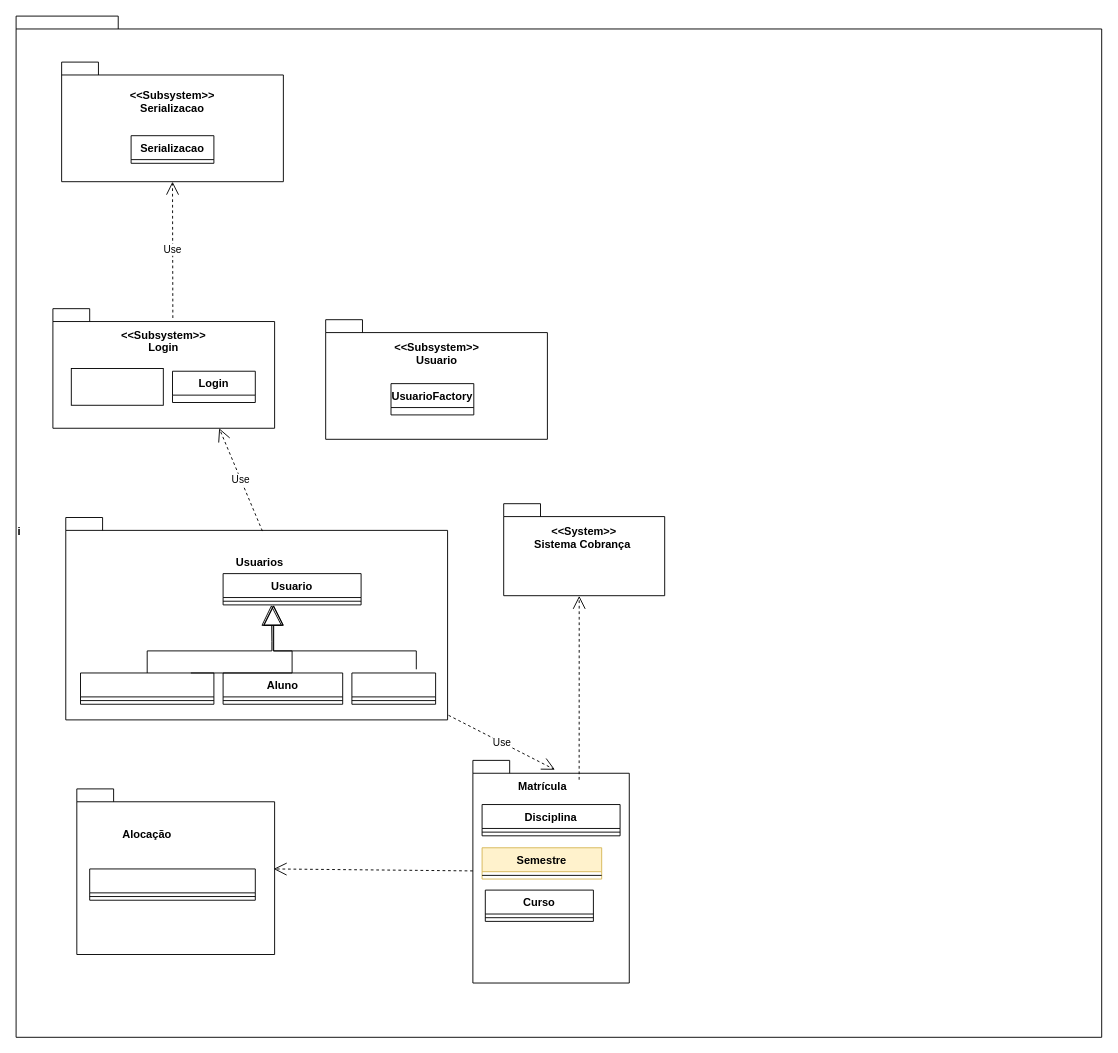
Some shapes in this 1118 by 1053 pixel diagram are drawn without their labels. Each missing label, with the centre of its shape:
<<Interface>> ILogin: point 116,386
Professor: point 393,688
Secretaria: point 147,688
Turma: point 172,884
